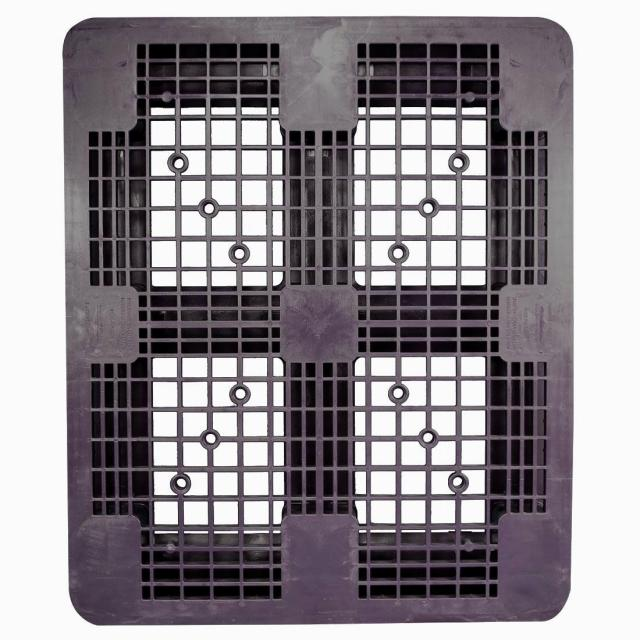non-igps: (42, 4, 583, 631)
